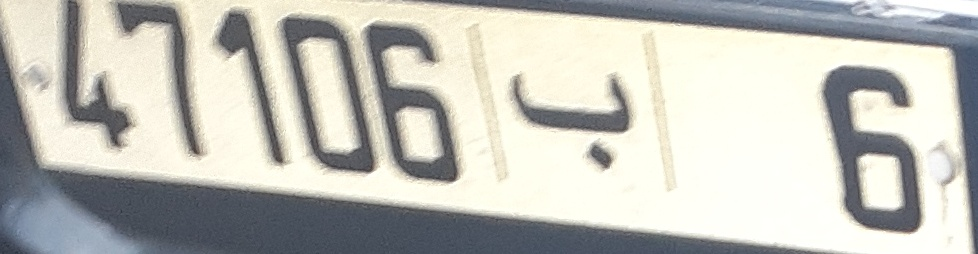0: (276, 11, 378, 177)
1: (213, 0, 286, 167)
4: (57, 0, 140, 154)
6: (817, 62, 932, 241), (361, 19, 466, 186)
7: (112, 0, 211, 159)
b: (504, 70, 641, 173)
